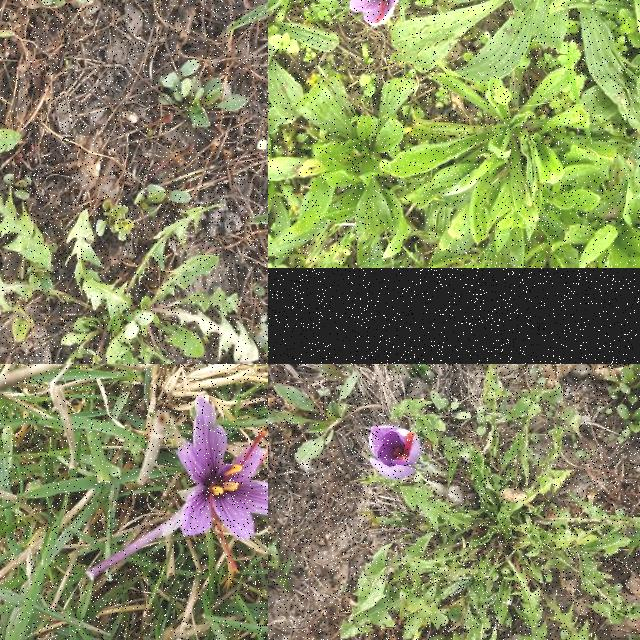flower: (177, 393, 268, 539), (368, 424, 422, 480), (333, 0, 402, 27)
